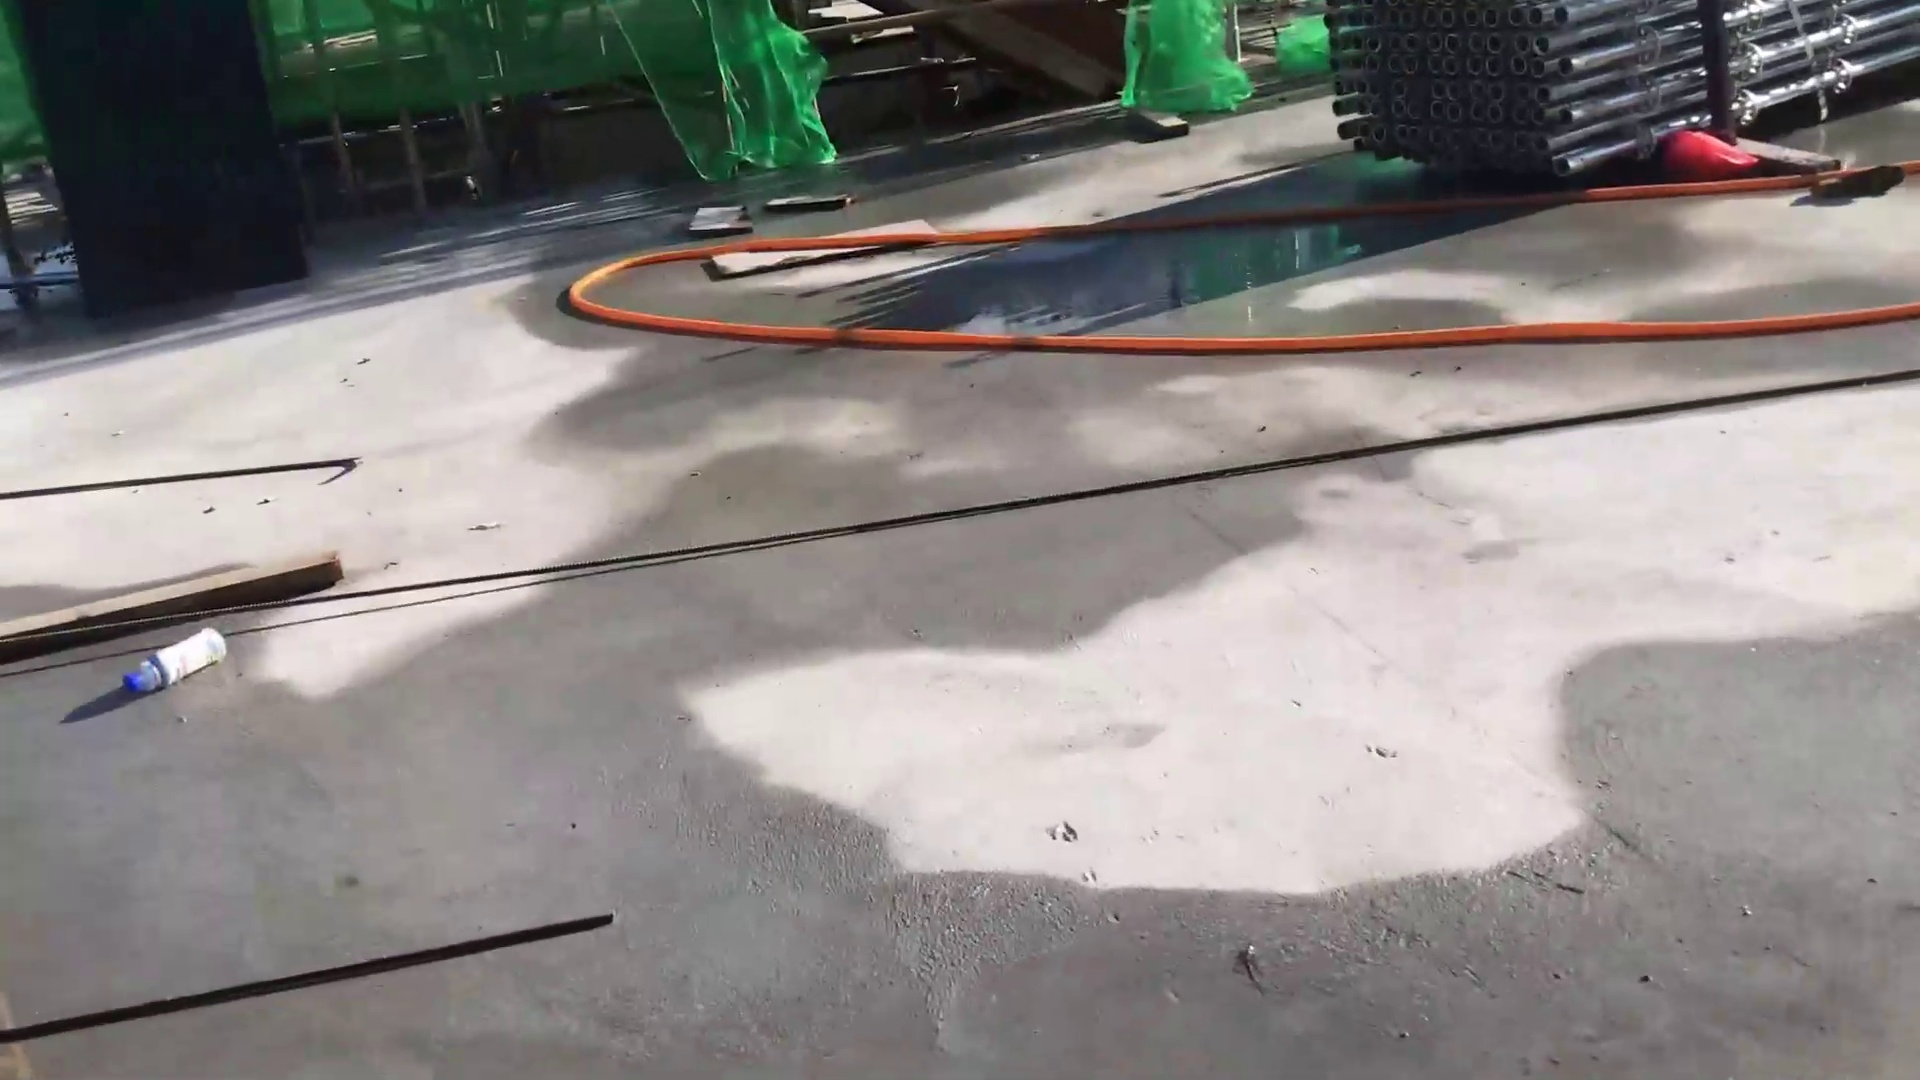scaffold: (1305, 1, 1920, 212)
